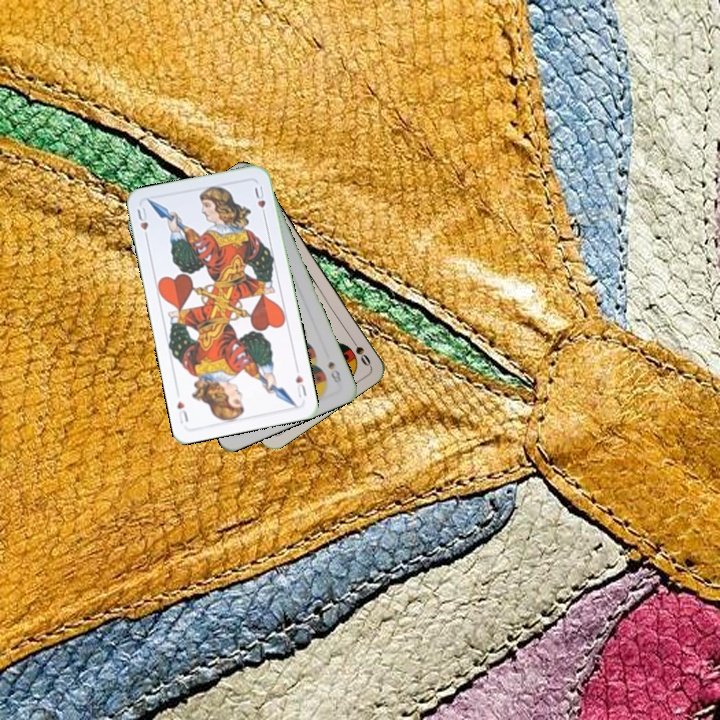HU: (133, 203, 151, 243), (292, 371, 309, 400)
S8: (324, 357, 344, 385)
SO: (346, 332, 373, 369)
